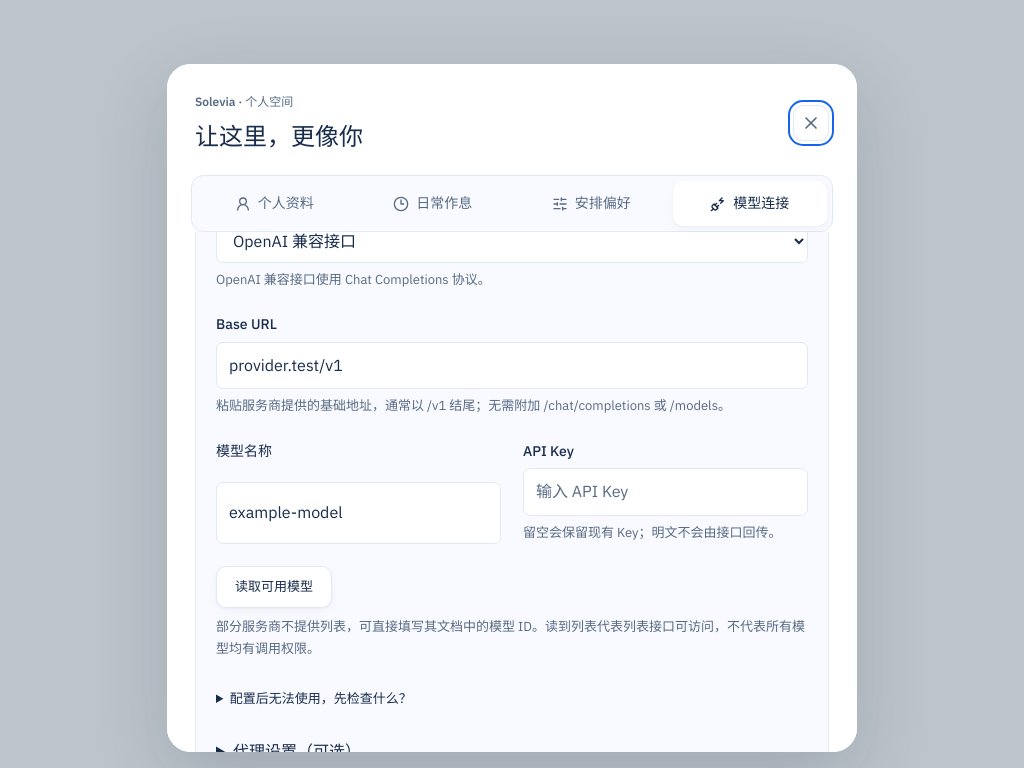
Test: catches an incomplete API URL before sending a credential-bearing request
(page scrolled)
Expected: the button "读取可用模型" is shown, x1=216 y1=566 x2=332 y2=608
Type "synthetic-test-key" into the password field labelled "API Key" at (666, 492), box x1=523 y1=468 x2=808 y2=516
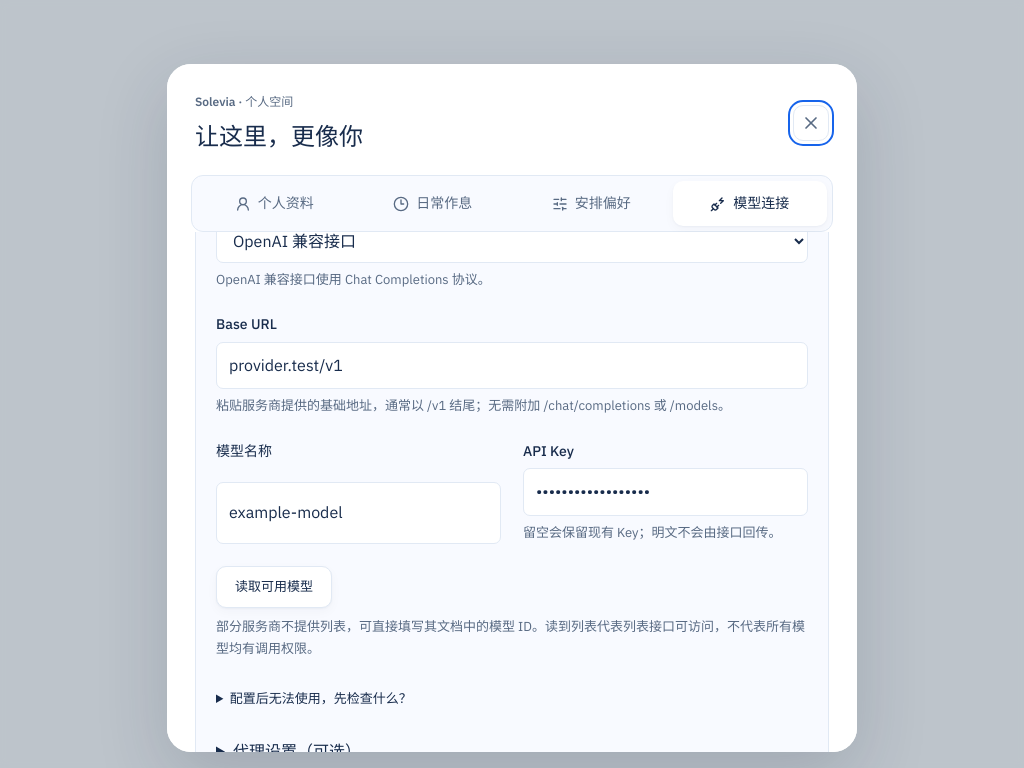
Click the button "读取可用模型" at (274, 587), box x1=216 y1=566 x2=332 y2=608
(page scrolled)
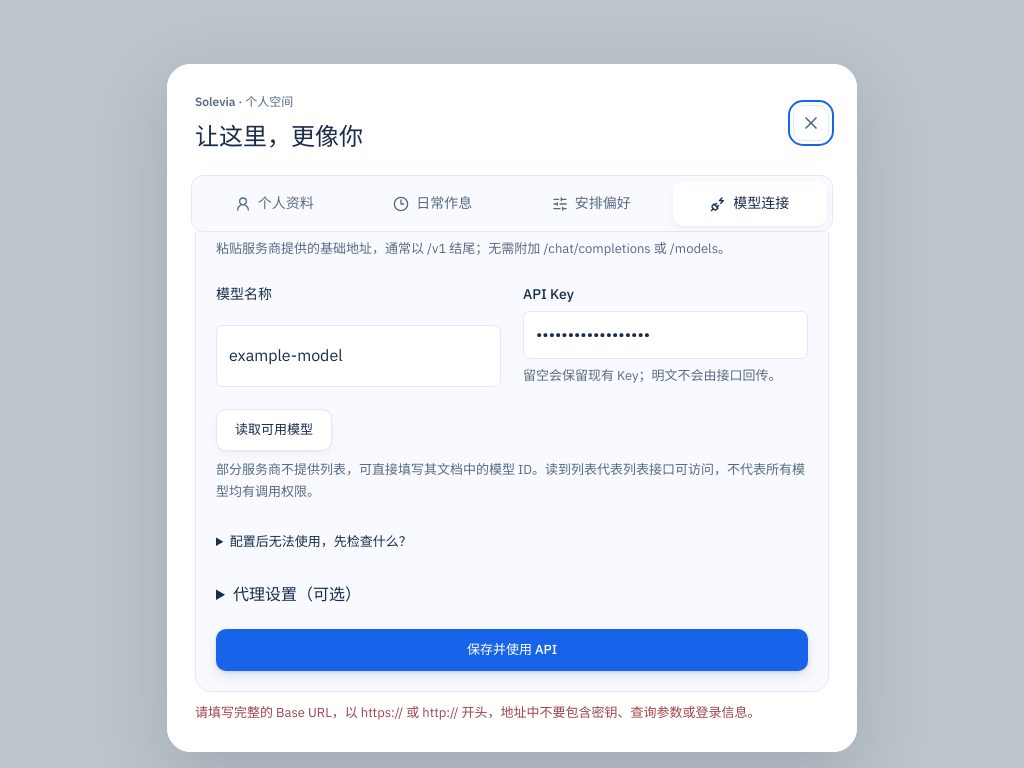
Now the message shows "以 https:// 或 http:// 开头", box x1=195 y1=704 x2=760 y2=721
